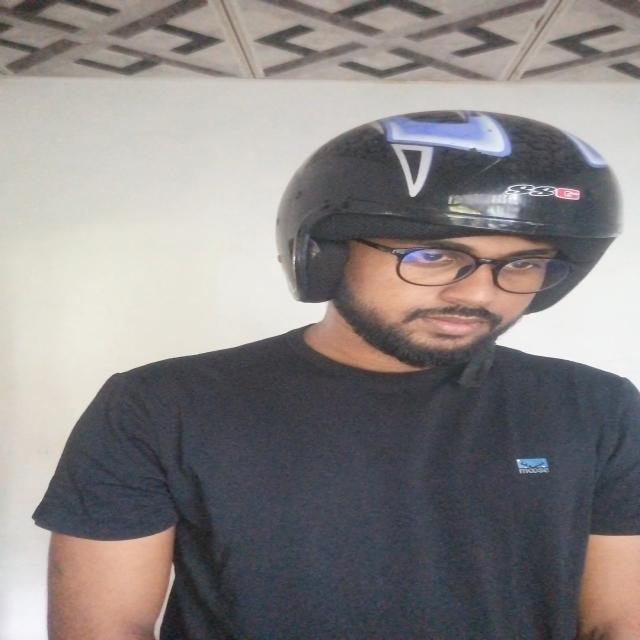Helmet_Wearer: (256, 98, 640, 417)
Person: (55, 106, 640, 640)
